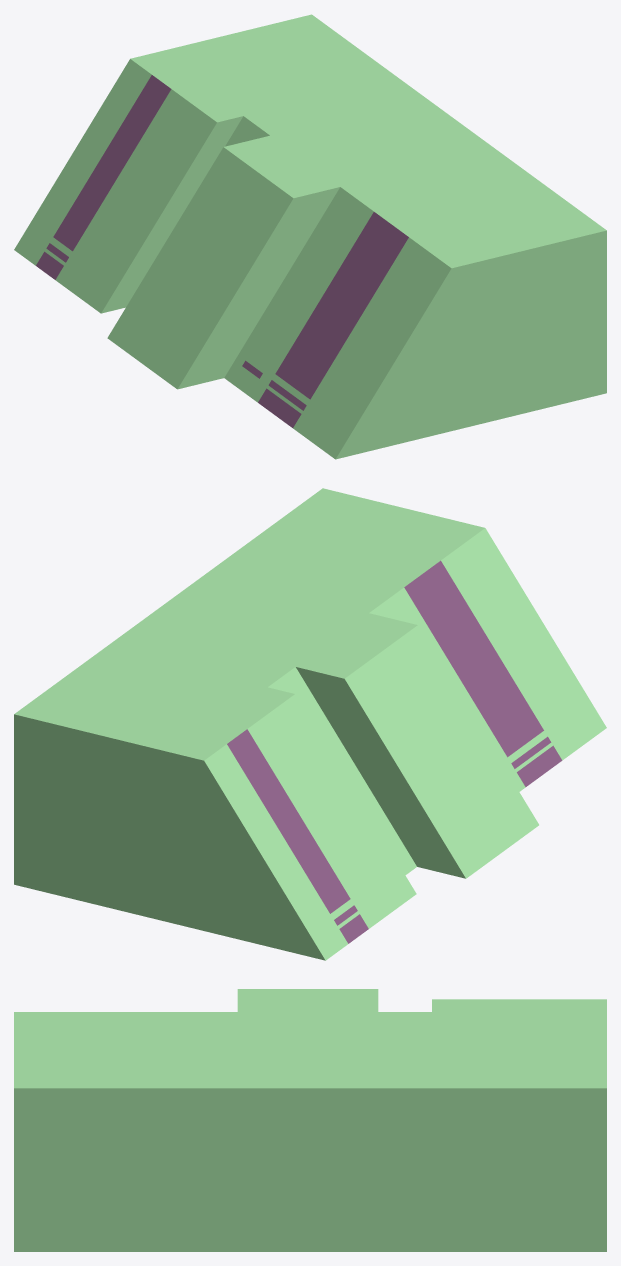
File: wall4.glb
3 views of the same model, one above another, from view 1: azimuth 30°, elevation 25°; view 2: azimuth 150°, elevation 25°; view 3: azimuth 270°, elevation 25° (orthographic). The views are drawn at different scales.
Parts seen in each view (by area): view 1: wall4; view 2: wall4; view 3: wall4.
Part boxes in pixels (x1,y1,x2,y2): wall4: [14, 14, 606, 459]; wall4: [14, 488, 606, 960]; wall4: [14, 989, 606, 1251].
Bounding box in the file's own units: 27.21 × 13.3 × 43.7.
